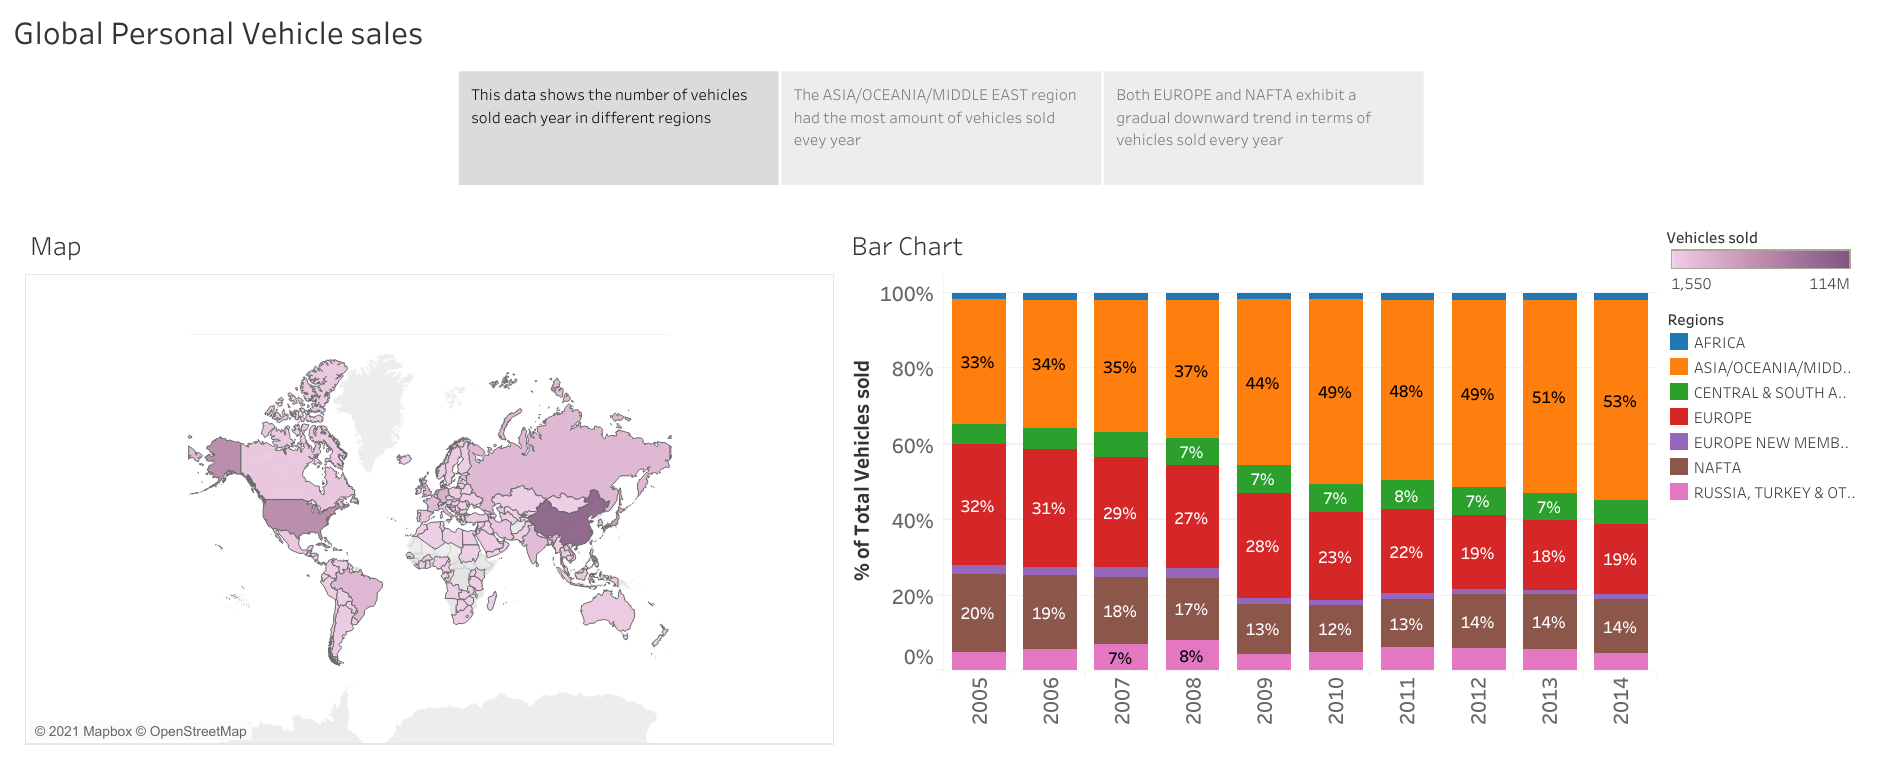

This screenshot's page, from the dashboard's own definition file:
{"tool":"tableau","page":{"name":"Dashboard 1","canvas":[1000,1000],"units":"permille","ordinal":0},"visuals":[{"type":"worksheet","title":"Map","mark":"Automatic","box":[4.8,9.2,446.9,981.7]},{"type":"worksheet","title":"Bar Chart","mark":"Automatic","cols":["Pivot Field Names"],"box":[451.7,9.2,446.9,981.7]},{"type":"legend","title":"Map","param":"[federated.00yqml90dr8esh1dftrlm193h1nq].[sum:Pivot Field Values:qk]","box":[898.6,9.2,96.6,83.6]},{"type":"legend","title":"Bar Chart","param":"[federated.00yqml90dr8esh1dftrlm193h1nq].[none:Regions:nk]","box":[898.6,92.8,96.6,213.1]}]}

Visuals, with their boxes on the dashboard's canvas, which has no fixed pixel size, in thousandths of its width and height (x1, y1, x2, y2). These are canvas units, not pixel positions in the 1880x769 screenshot, which may show the page scaled, cropped or inside an application window:
"Map" worksheet: bbox=[5, 9, 452, 991]
"Bar Chart" worksheet: bbox=[452, 9, 899, 991]
"Map" legend: bbox=[899, 9, 995, 93]
"Bar Chart" legend: bbox=[899, 93, 995, 306]
